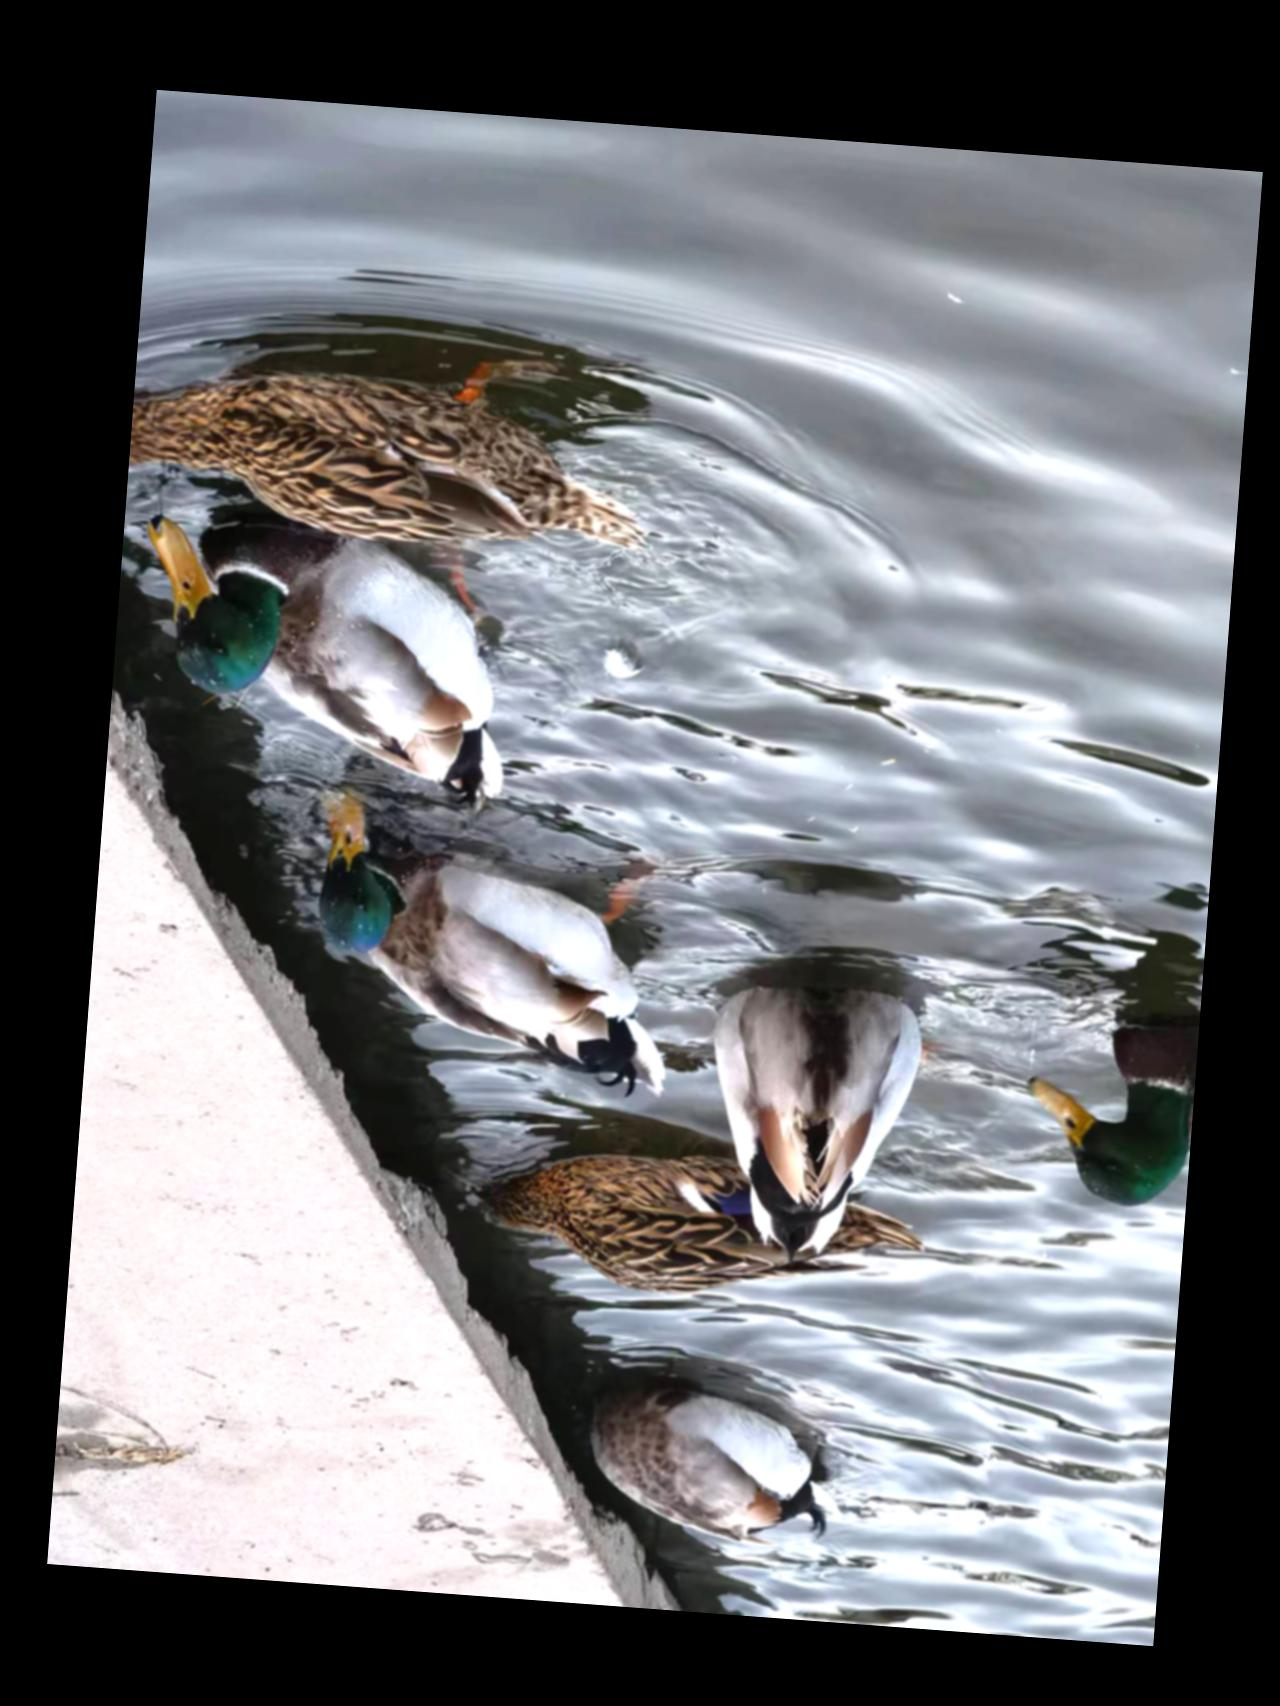duck: (126, 319, 672, 577), (286, 770, 695, 1106), (125, 510, 531, 827), (448, 1114, 956, 1334), (680, 961, 955, 1278), (999, 897, 1206, 1226), (565, 1366, 869, 1551)
